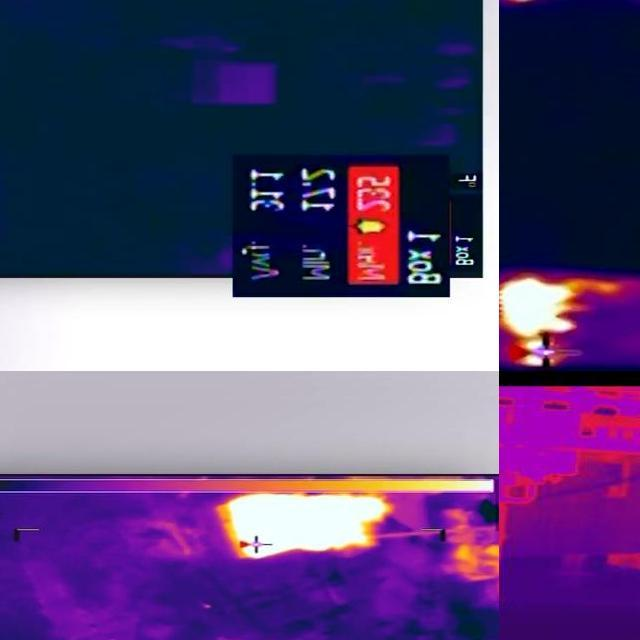fire: (225, 492, 394, 560), (500, 274, 592, 366)
